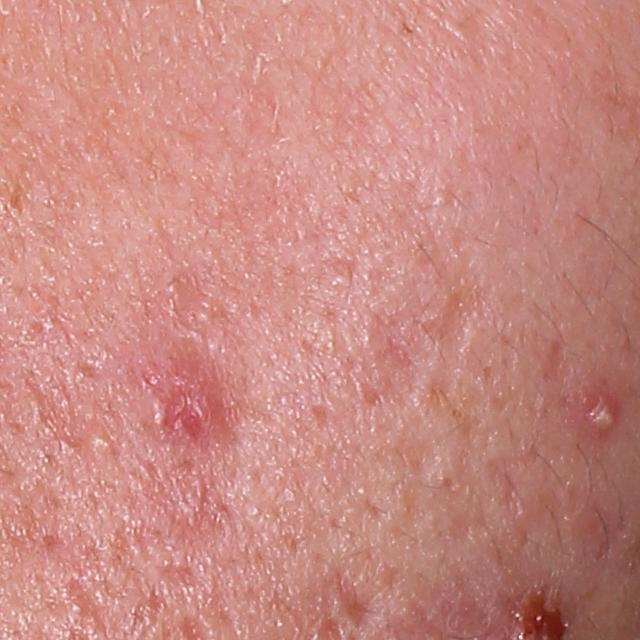atrophic_scar: (416, 295, 490, 422), (23, 373, 79, 450), (66, 575, 111, 636), (336, 574, 380, 626)
comedo: (86, 430, 120, 456)
pustule: (575, 386, 621, 443)
